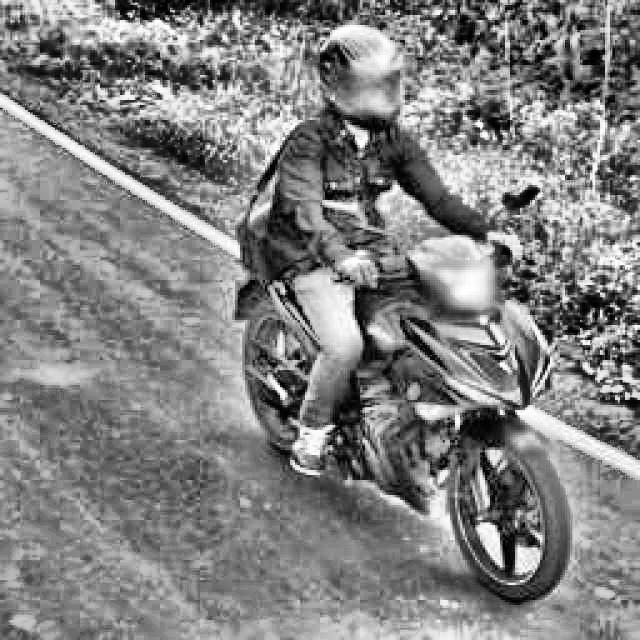motorcycle: (197, 142, 608, 598)
